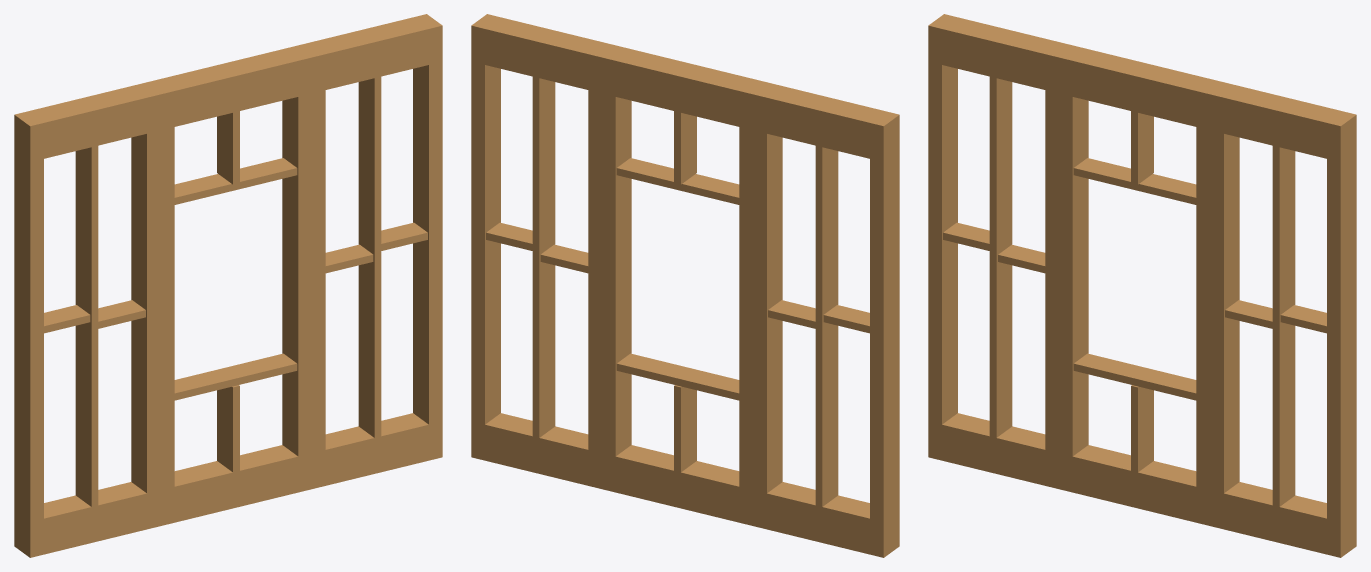
Rendered from buildings_house-wall-window-construction-3x3m.fbx.
3 renders of one model, left to right at view 1: azimuth 30°, elevation 25°; view 2: azimuth 150°, elevation 25°; view 3: azimuth 330°, elevation 25°, orthographic.
Visible parts, largest first — view 1: buildings_house_wall_window_construction_3x3m; view 2: buildings_house_wall_window_construction_3x3m; view 3: buildings_house_wall_window_construction_3x3m.
Boxes of the visible parts, x1,y1,x2,y2 form: buildings_house_wall_window_construction_3x3m: [14, 14, 442, 557]; buildings_house_wall_window_construction_3x3m: [471, 14, 899, 557]; buildings_house_wall_window_construction_3x3m: [928, 14, 1356, 557].
Size of the model in its own units: 200 by 200 by 13.33.
